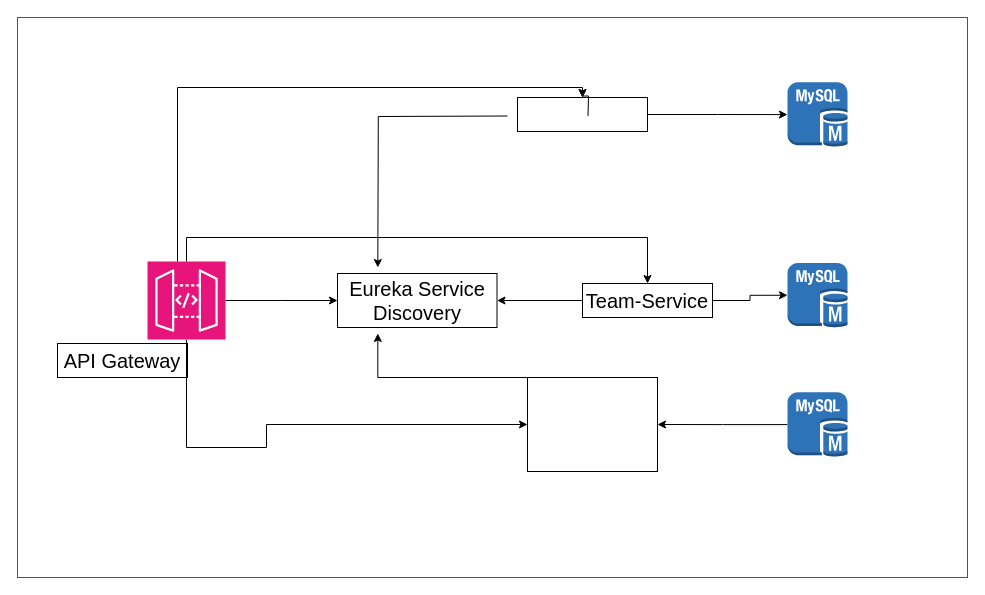
Some shapes in this 985 by 595 pixel diagram are drawn without their labels. The shapes that lost their labels are listed below. From the top down, each one's centre as x and y in pixels, then its label:
At (582,114): "User-Service".
At (592,424): "Tournament-Competition-Service".
